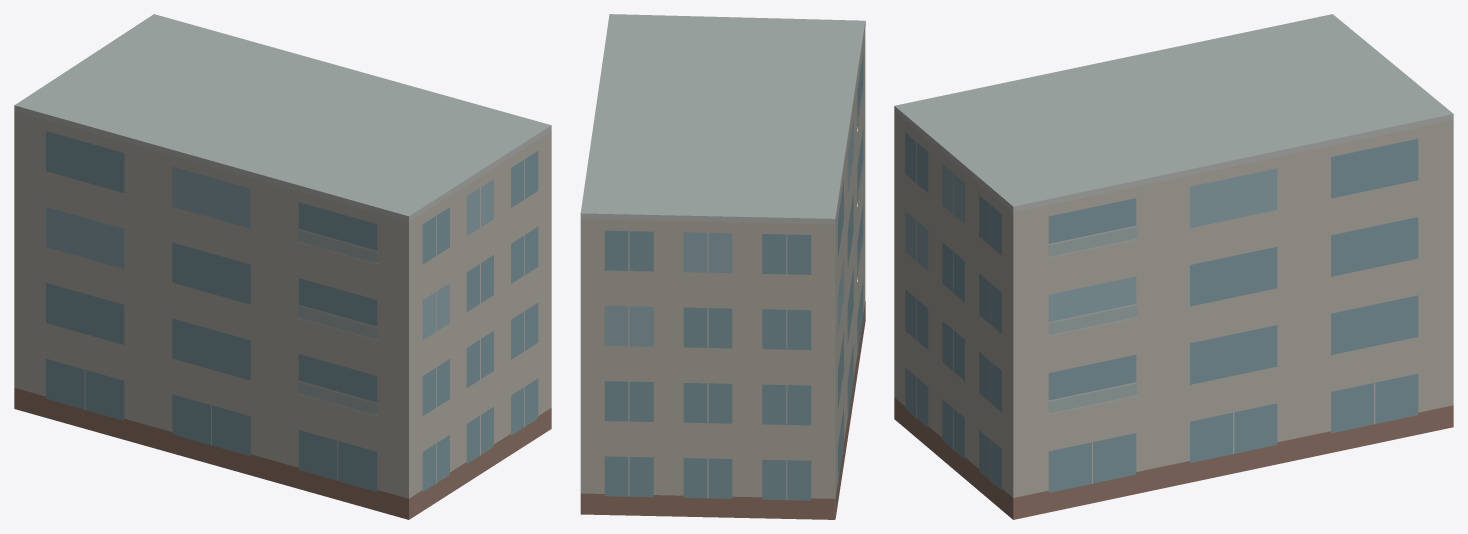
The model's file is survey-upis-32701405.glb.
3 views of the same model, side by side, from view 1: azimuth 30°, elevation 25°; view 2: azimuth 150°, elevation 25°; view 3: azimuth 270°, elevation 25° (orthographic). The views are drawn at different scales.
Parts seen in each view (by area): view 1: survey-upis-32701405.tmp; view 2: survey-upis-32701405.tmp; view 3: survey-upis-32701405.tmp.
Part boxes in pixels (box(x1,y1,x2,y2)): survey-upis-32701405.tmp: box(14, 14, 551, 519); survey-upis-32701405.tmp: box(580, 14, 865, 519); survey-upis-32701405.tmp: box(894, 14, 1453, 519).
Bounding box in the file's own units: 16.89 × 12.8 × 20.72.
